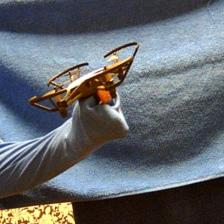drone: (29, 41, 139, 121)
